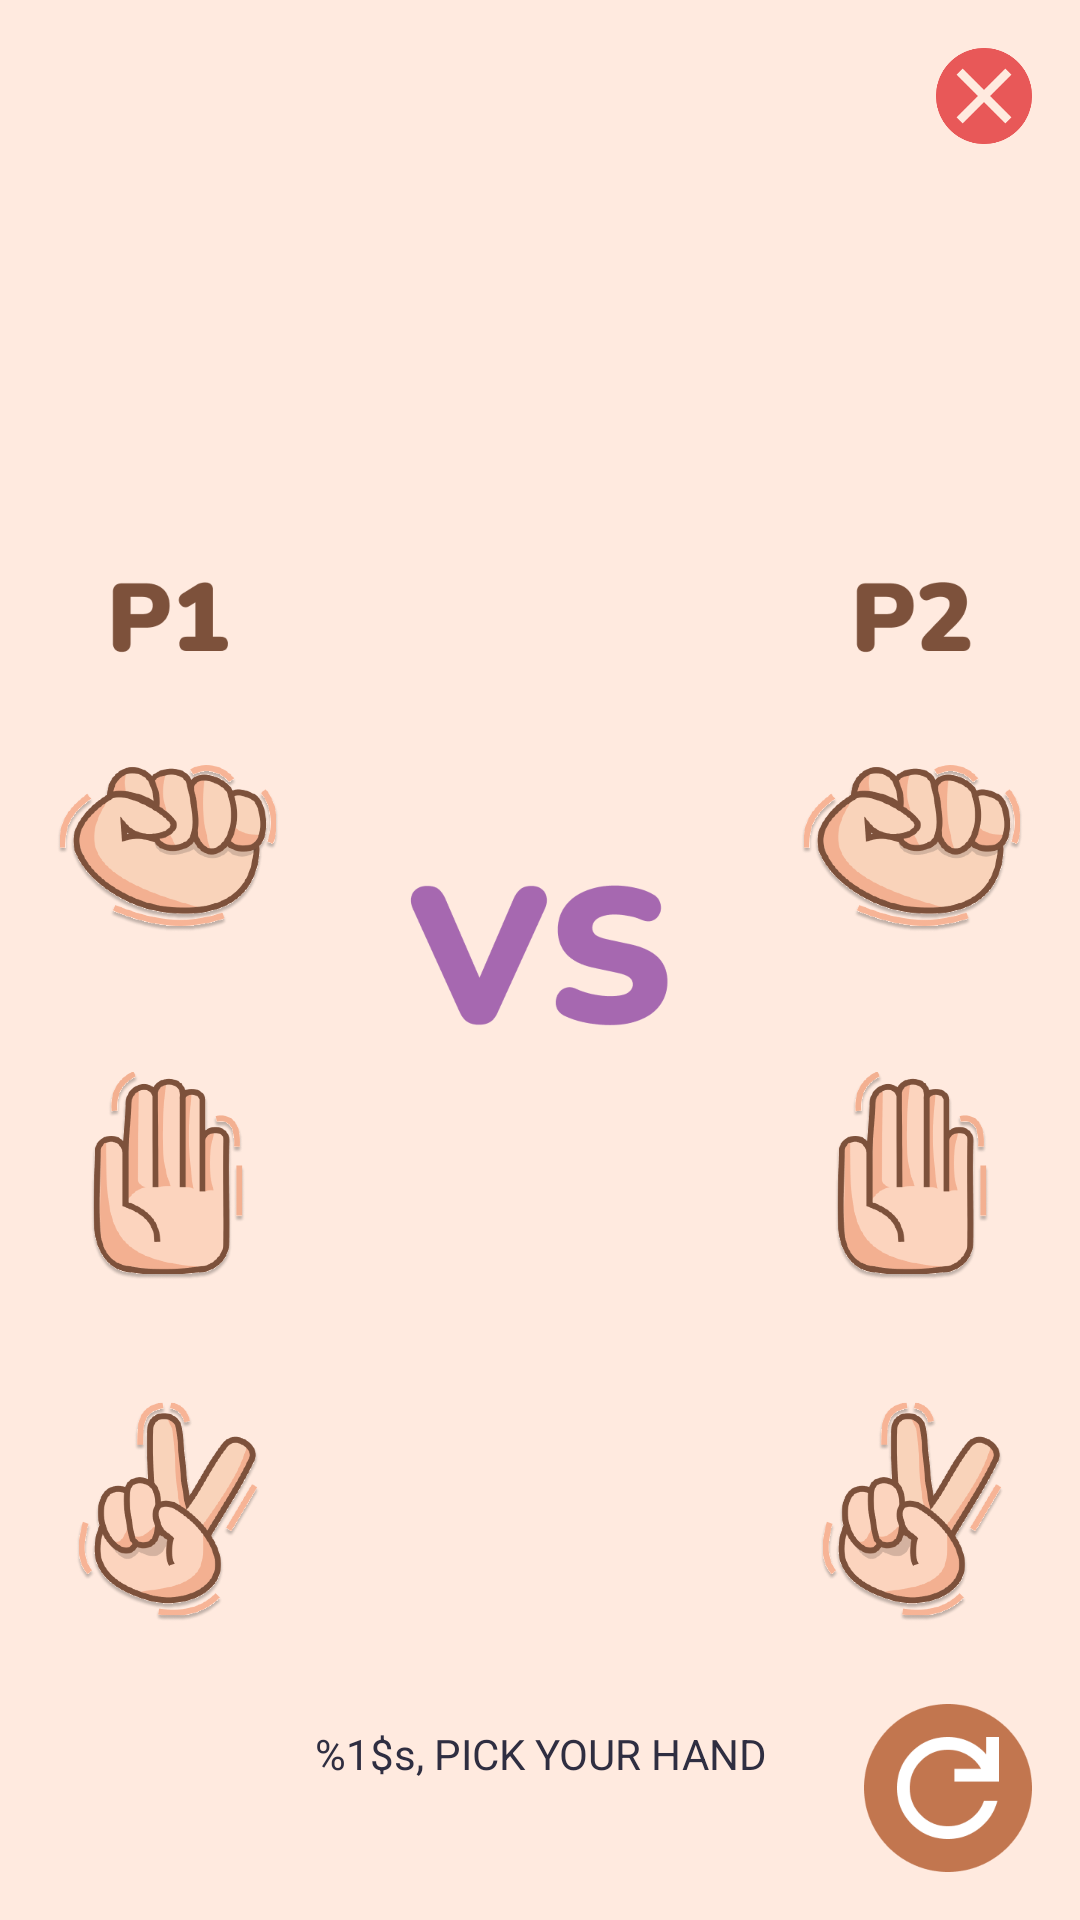

Icon bounding boxes for this 1080 × 1920 phone screenshot, format (x1, y1, x2, y2):
close: (936, 48, 1032, 144)
hand paper: (93, 1072, 243, 1277), (837, 1072, 987, 1277)
hand rock: (60, 765, 276, 929), (804, 765, 1020, 929)
hand scissor: (79, 1403, 257, 1619), (823, 1403, 1001, 1619)
refresh: (864, 1704, 1032, 1872)
